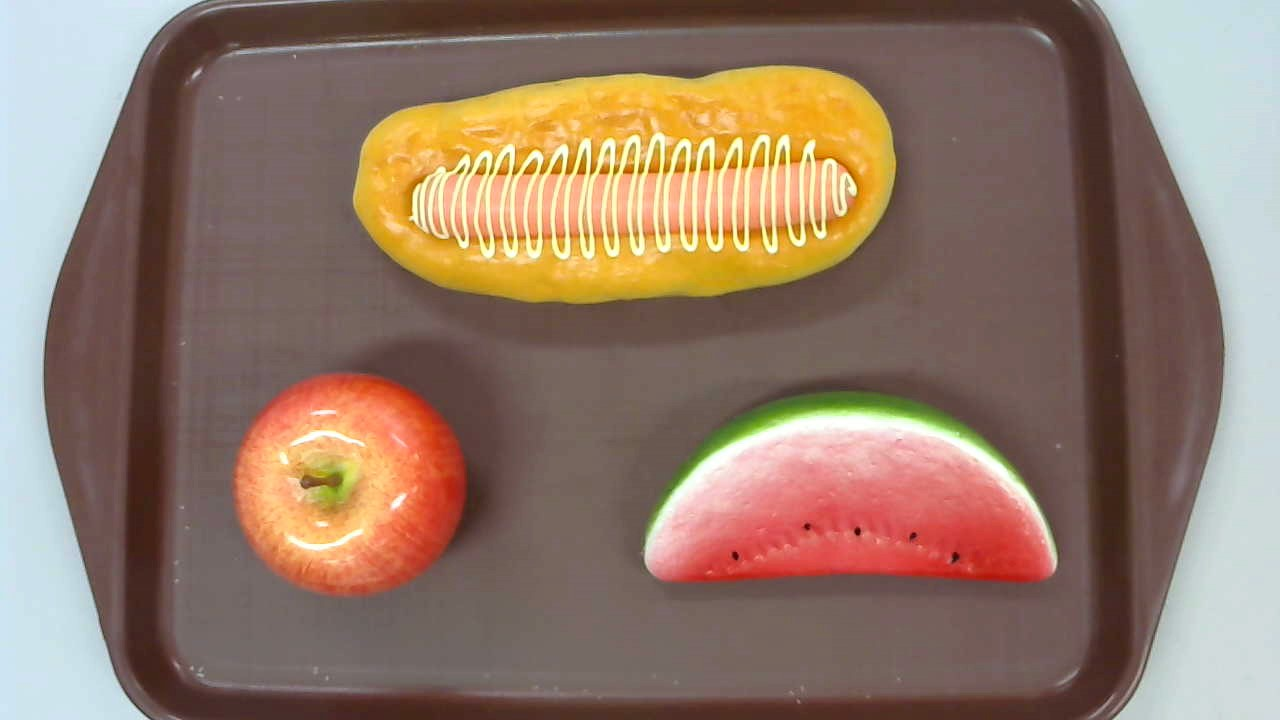hot dog: (352, 66, 896, 306)
red apple: (231, 371, 466, 600)
water melon: (641, 391, 1057, 583)
